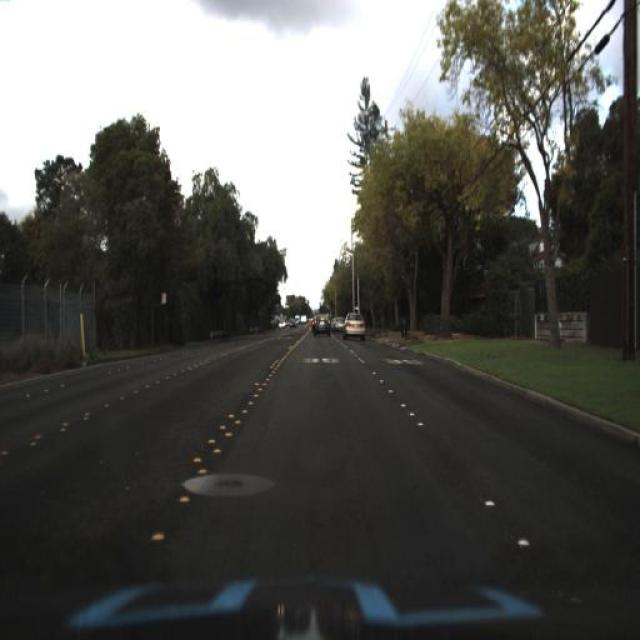car: (340, 308, 370, 343), (308, 305, 334, 340)
